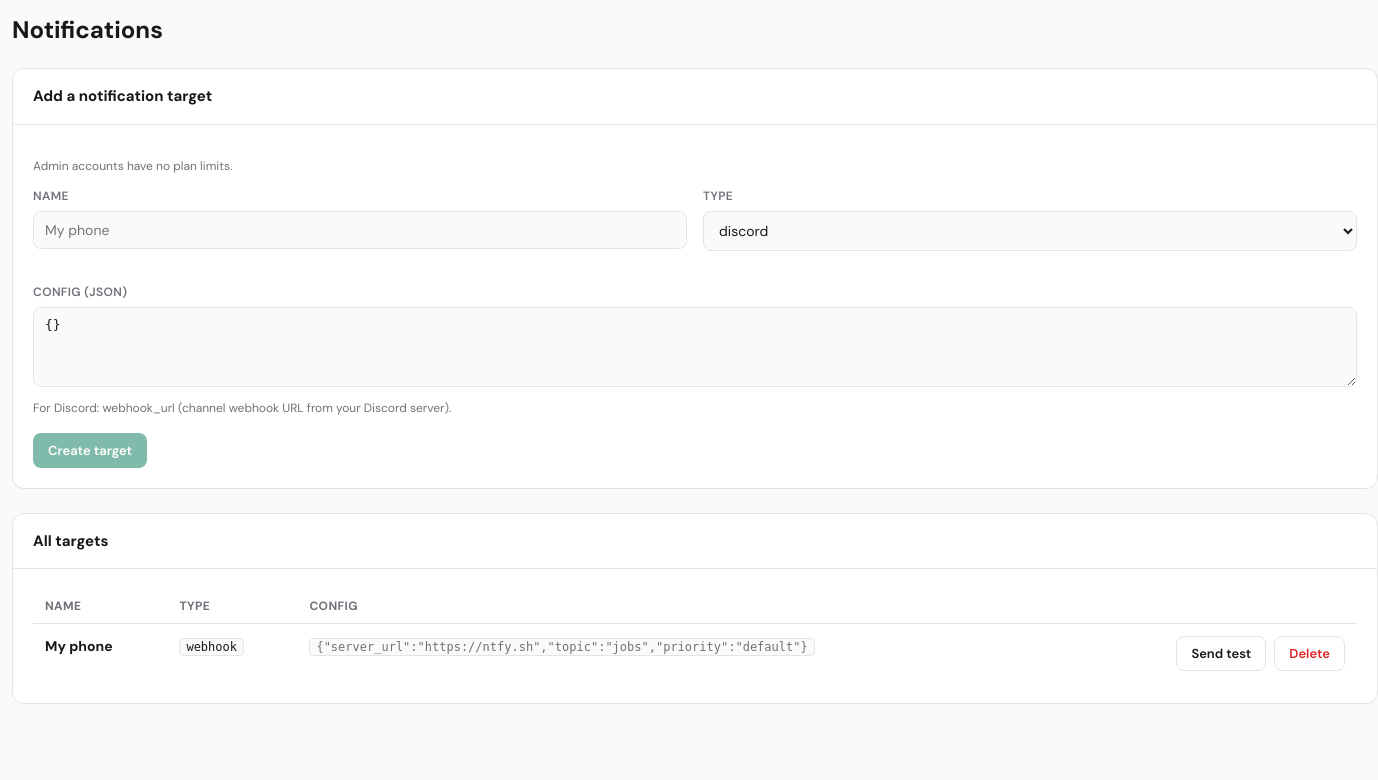
TargetsPage branch coverage › shows the webhook-specific success notice on a sent test
The width and height of the screenshot is (1378, 780).
Check: the text "My phone" is shown, box [45,637,113,655]
Click the button "Send test" at point(1221, 654), box [1176,636,1266,671]
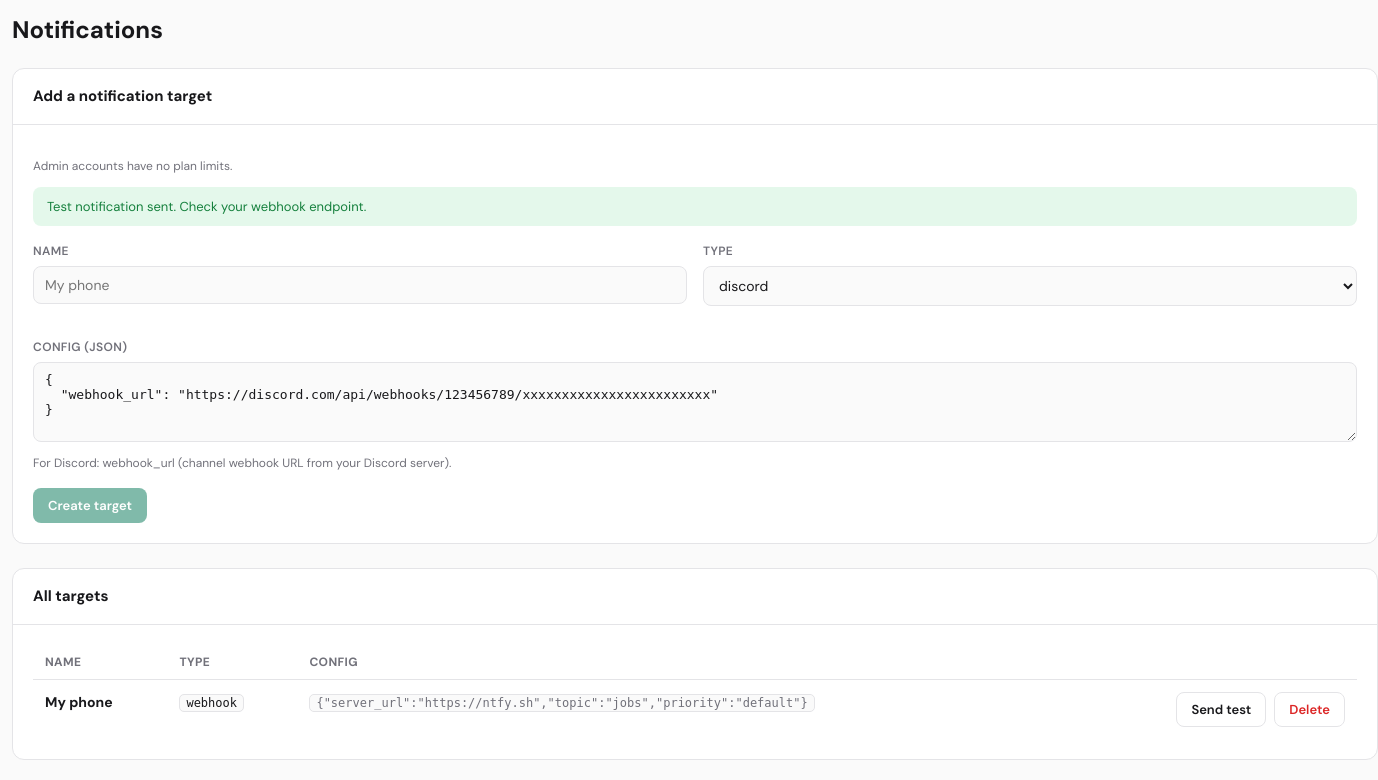
Check: the text "Test notification sent. Check your webhook endpoint." is shown, box [33,186,1357,226]
